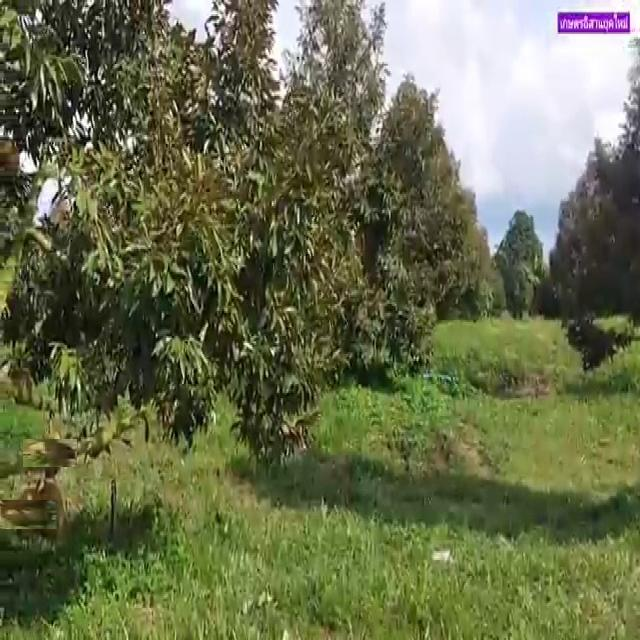durian: (33, 483, 66, 545), (4, 492, 49, 537), (30, 432, 71, 474)
